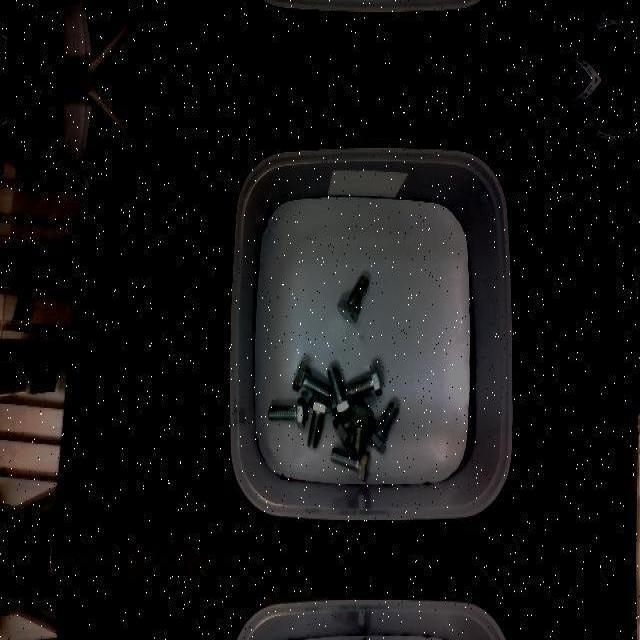screw: (365, 402, 399, 454), (292, 359, 331, 401), (337, 275, 370, 323), (330, 445, 371, 479), (326, 365, 352, 415), (307, 397, 332, 449), (349, 401, 373, 455), (345, 364, 382, 398), (267, 396, 305, 428)
